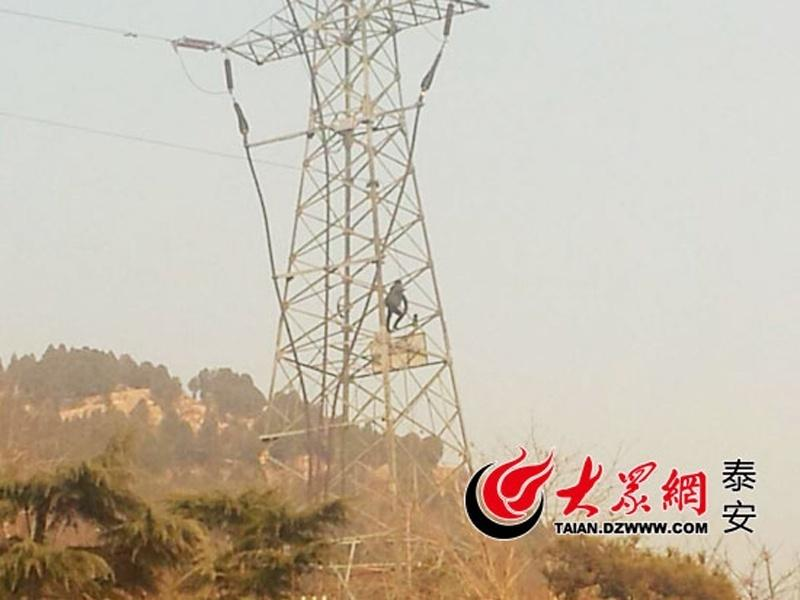power_tower: (169, 5, 508, 460)
